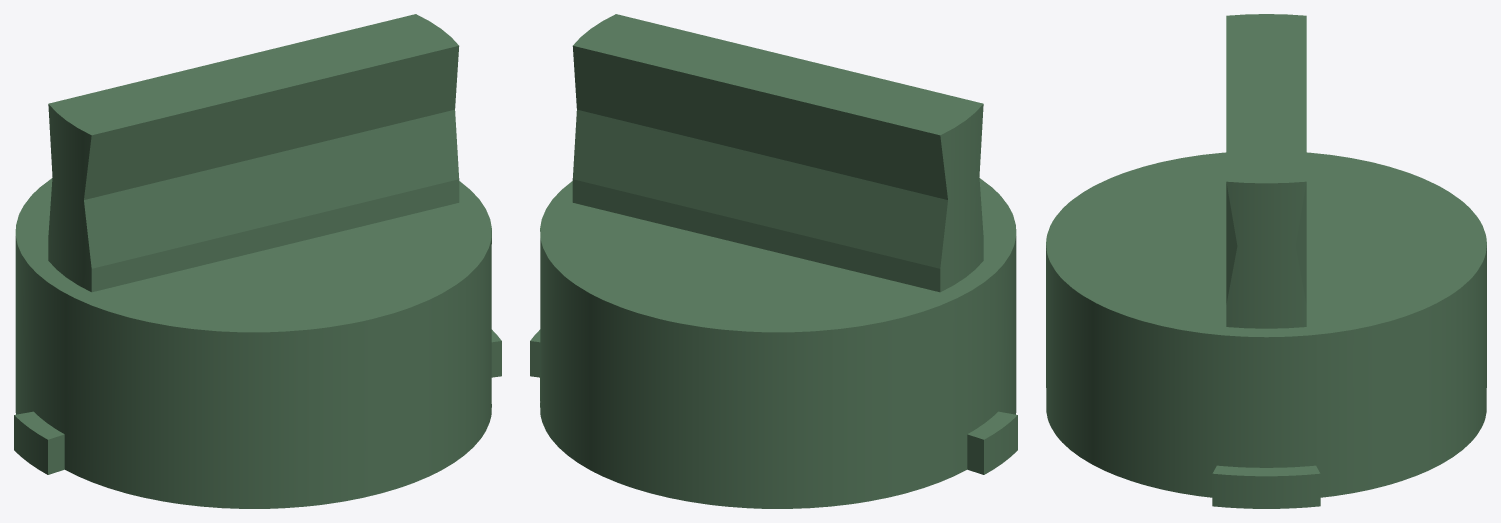
The model's file is initial_plug_cap.glb.
3 views of the same model, side by side, from view 1: azimuth 30°, elevation 25°; view 2: azimuth 150°, elevation 25°; view 3: azimuth 270°, elevation 25° (orthographic). The views are drawn at different scales.
Visible parts, largest first — view 1: _glb_plug; view 2: _glb_plug; view 3: _glb_plug.
Boxes of the visible parts, left/top/right/bottom form: _glb_plug: left=14, top=14, right=501, bottom=508; _glb_plug: left=530, top=14, right=1017, bottom=508; _glb_plug: left=1046, top=14, right=1486, bottom=508.
Bounding box in the file's own units: 0.024 × 0.017 × 0.022.
